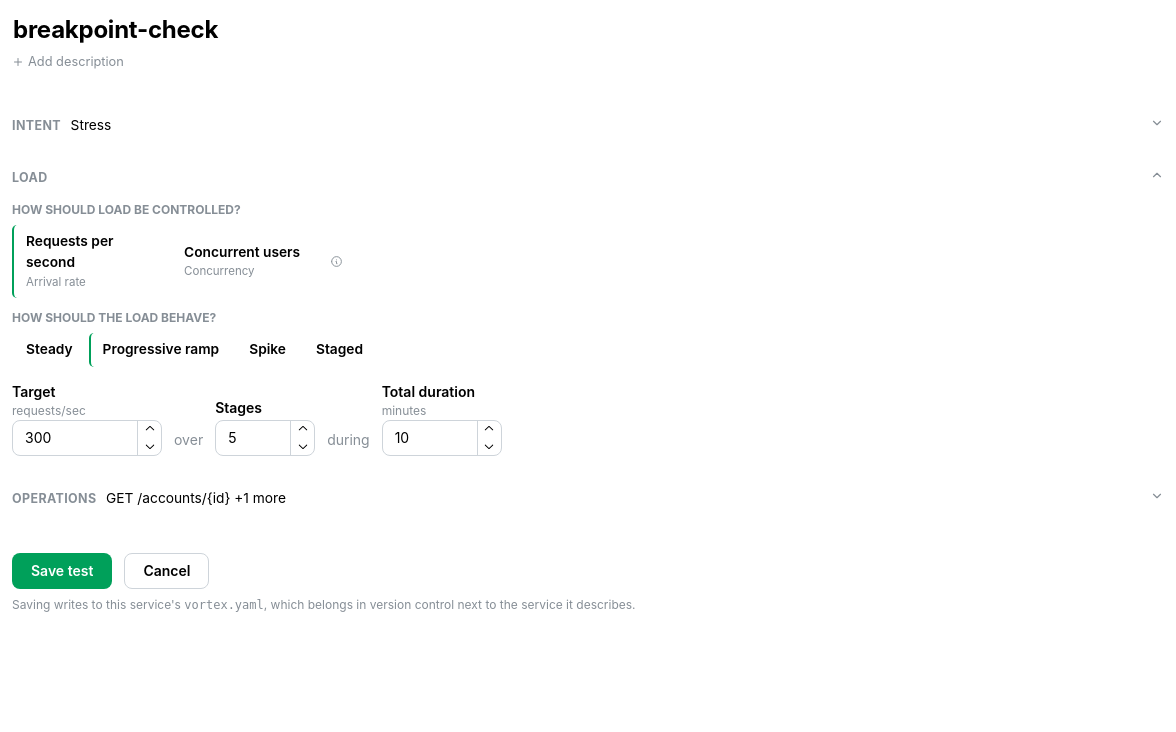
Scenario: the inline test composer › editing: hand-editing Stages after reopening a ramp reverts to the equal-spacing preview
Replace the text in the field labelled "Stages" with "4": point(265, 438) left=215, top=420, right=315, bottom=456
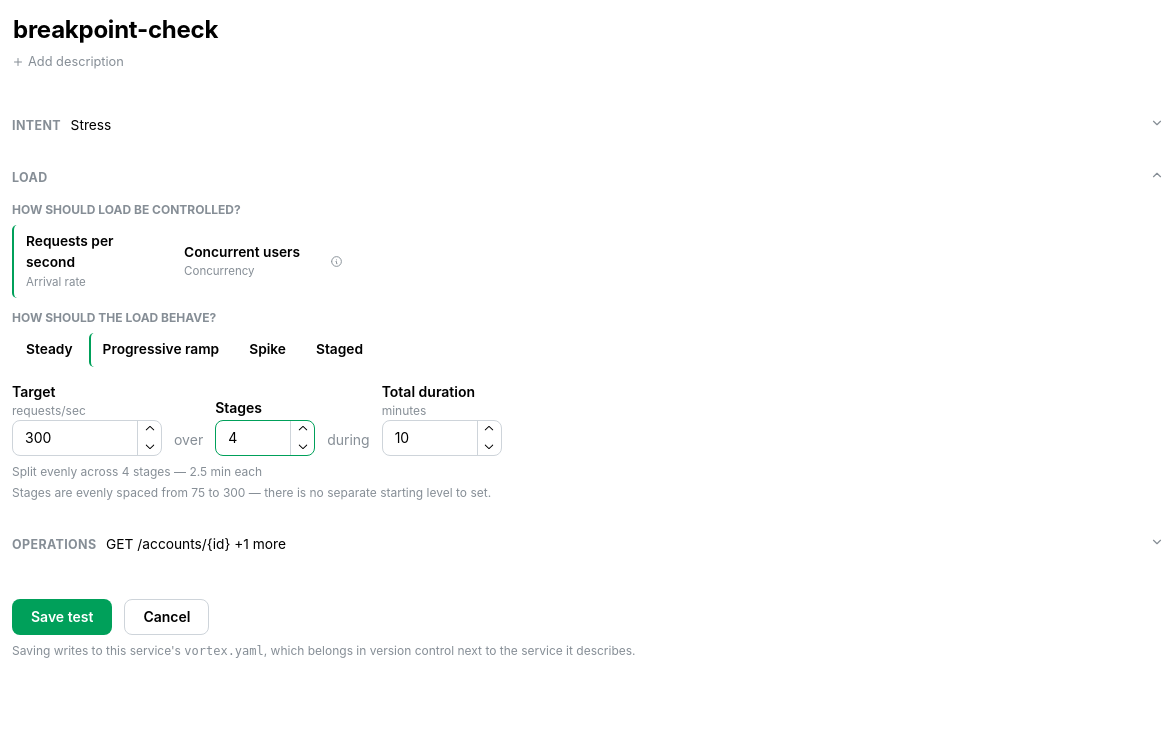
Result: the text "Split evenly across 4 stages — 2.5 min each" is shown at left=12, top=464, right=262, bottom=479
